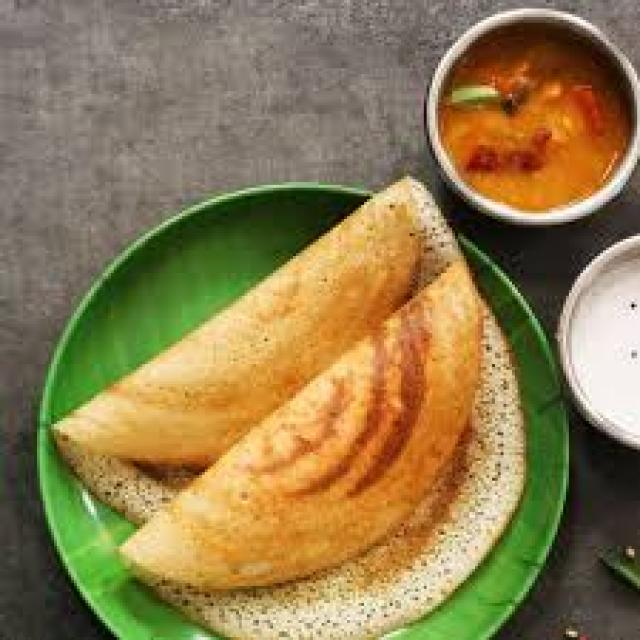DOSA: (117, 249, 517, 637), (54, 173, 458, 522)
